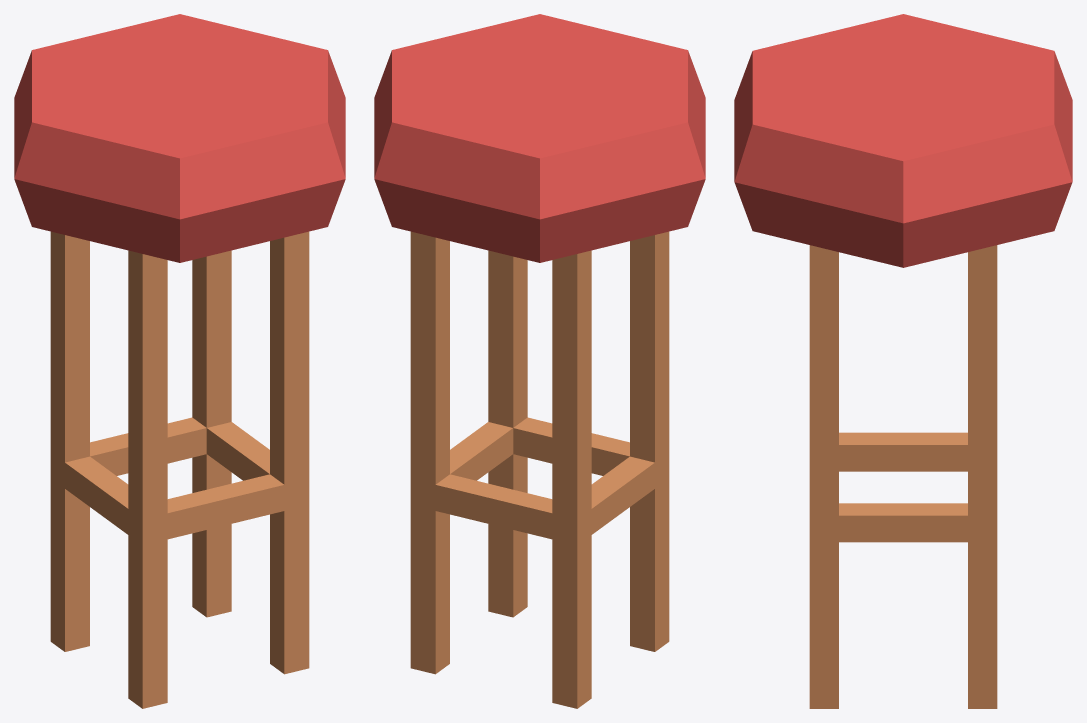
Rendered from stoolBar.glb.
3 views of the same model, side by side, from view 1: azimuth 30°, elevation 25°; view 2: azimuth 150°, elevation 25°; view 3: azimuth 270°, elevation 25° (orthographic).
Visible parts, largest first — view 1: stoolBar; view 2: stoolBar; view 3: stoolBar.
Boxes of the visible parts, x1,y1,x2,y2 form: stoolBar: [14, 14, 345, 708]; stoolBar: [374, 14, 705, 708]; stoolBar: [734, 14, 1072, 708].
Size of the model in its own units: 0.5309 by 0.87 by 0.4598.
